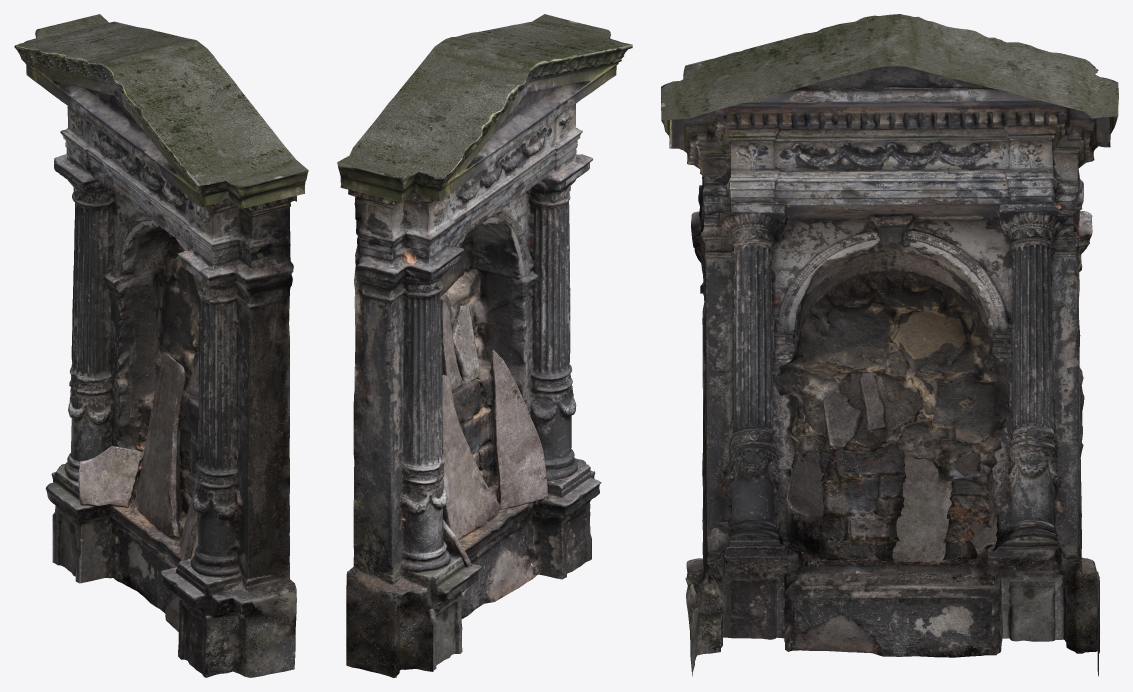
Rendered from sm_Grave_04_01.fbx.
3 views of the same model, side by side, from view 1: azimuth 30°, elevation 25°; view 2: azimuth 150°, elevation 25°; view 3: azimuth 270°, elevation 25° (orthographic). The views are drawn at different scales.
Parts seen in each view (by area): view 1: sm_Grave_04_01_LOD0; view 2: sm_Grave_04_01_LOD0; view 3: sm_Grave_04_01_LOD0.
Part boxes in pixels (box(x1,y1,x2,y2)): sm_Grave_04_01_LOD0: box(14, 14, 308, 677); sm_Grave_04_01_LOD0: box(337, 14, 632, 677); sm_Grave_04_01_LOD0: box(661, 14, 1118, 676).
Bounding box in the file's own units: 81.28 × 228 × 337.
